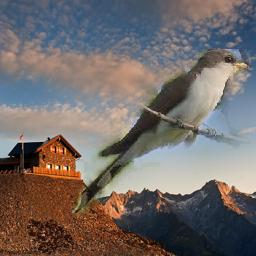Cuckoo: (73, 49, 252, 217)
